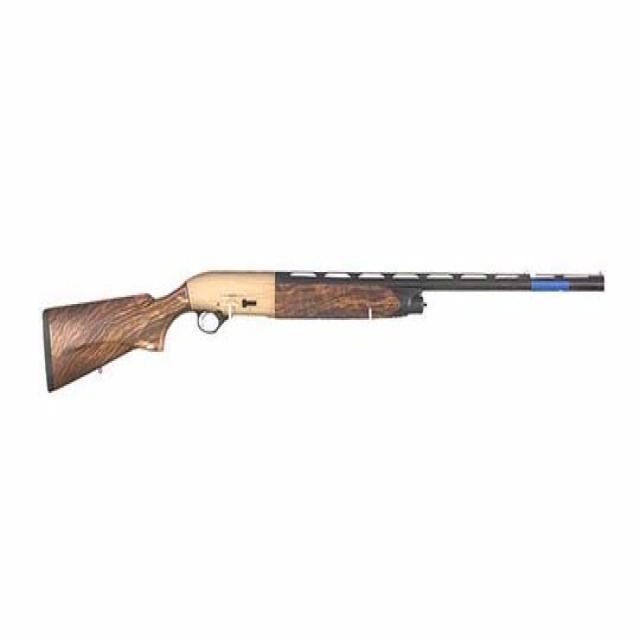ShotGun: (41, 272, 606, 391)
